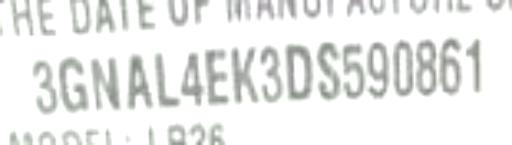letter: (122, 49, 158, 114), (86, 52, 124, 111), (280, 42, 316, 101), (53, 55, 89, 114), (148, 49, 182, 110), (336, 39, 370, 98), (228, 43, 260, 104), (254, 43, 286, 104), (462, 36, 492, 97), (26, 59, 58, 114), (436, 36, 464, 97), (314, 40, 342, 101), (389, 36, 415, 101), (413, 36, 439, 97), (201, 46, 227, 107), (178, 49, 204, 110), (366, 40, 390, 101)
